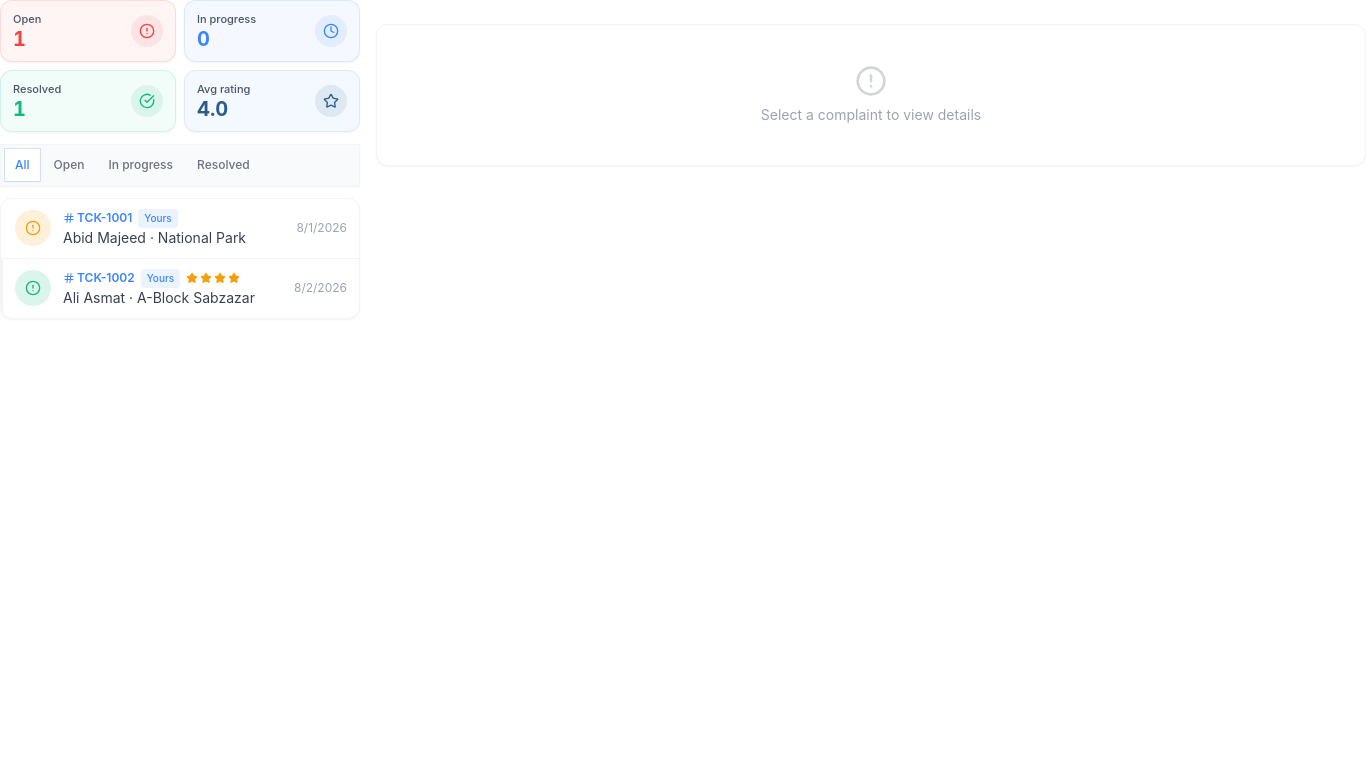
Test: PortalComplaints › renders complaint details inline in the desktop panel, not only in the mobile sheet
This screenshot has width=1366, height=768.
Expected: the text "Select a complaint to view details" is shown, [761, 105, 981, 125]
What coordinates should you click on to do the following:
click the text "TCK-1001"
I would click on:
 (98, 218)
Its box is [63, 210, 132, 226].
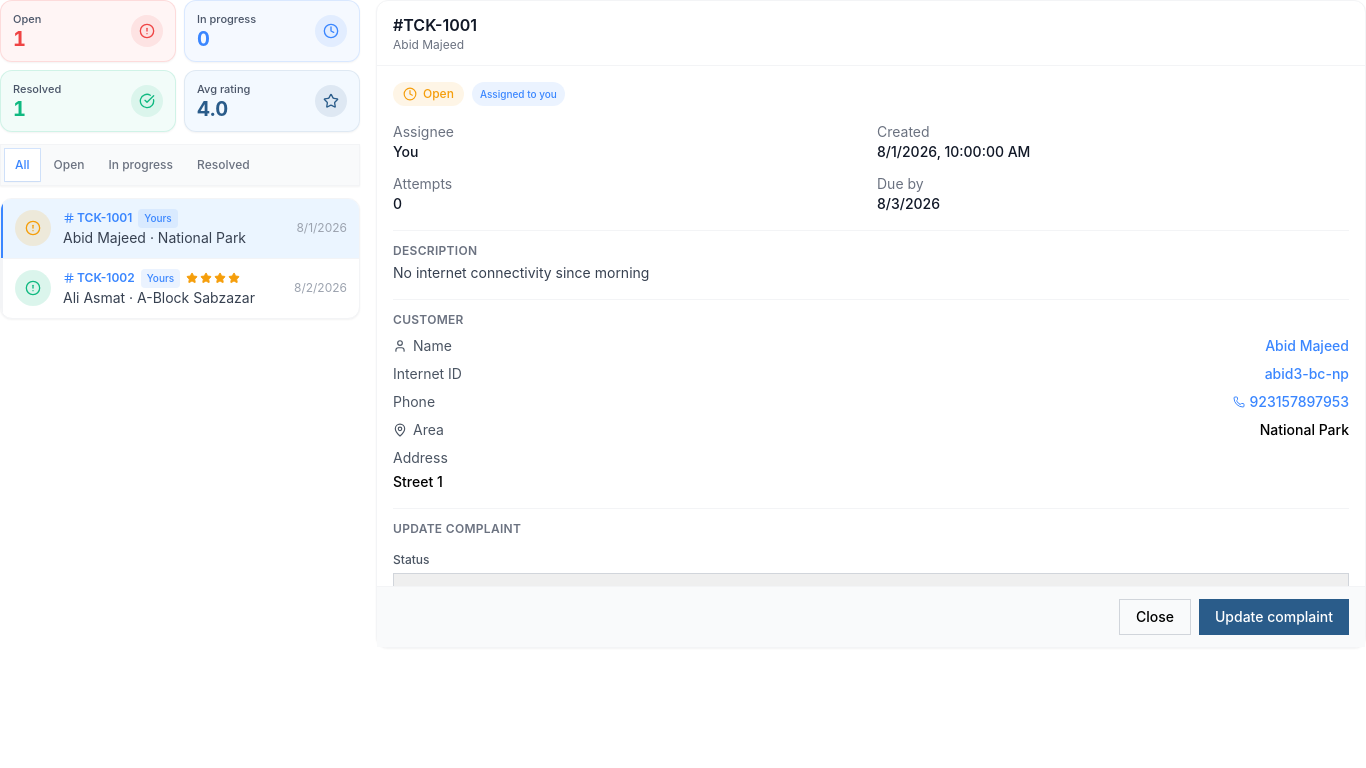
Now the text "Select a complaint to view details" is gone
